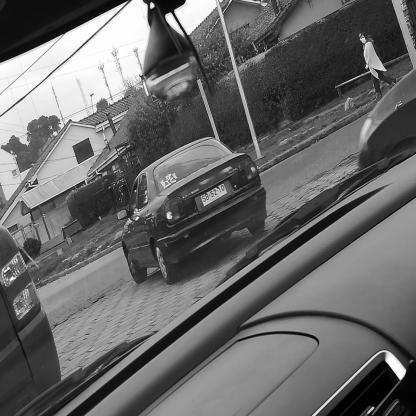Patente: (199, 181, 228, 209)
